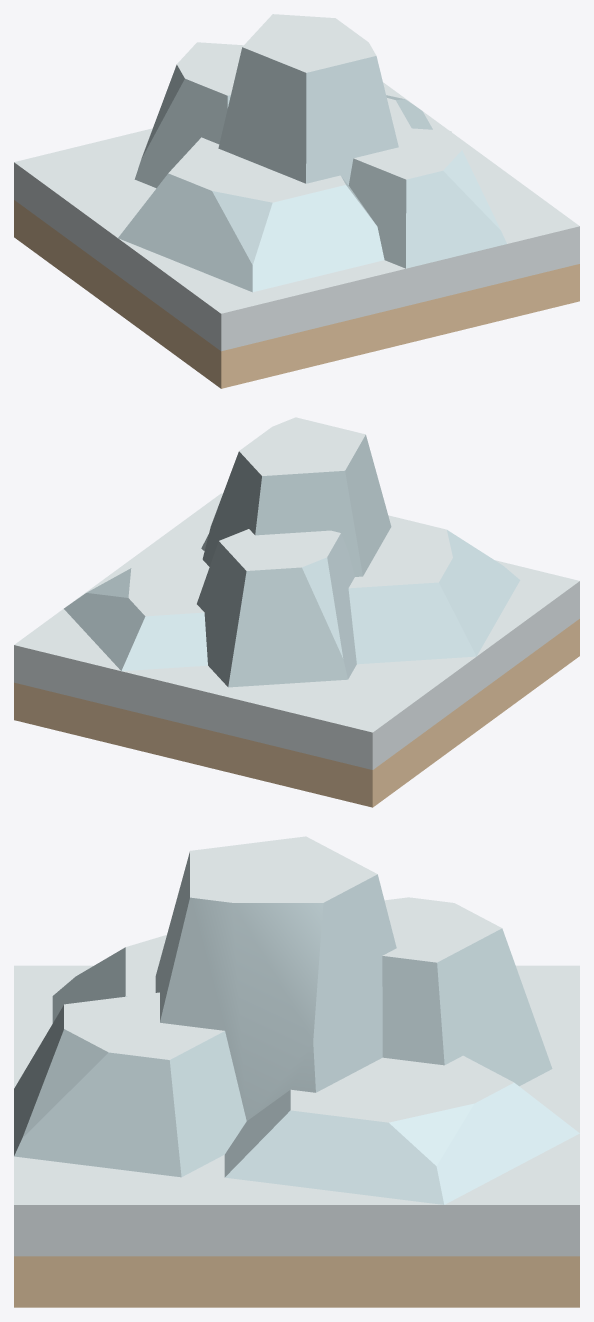
File: snow_tile_hill.glb
3 views of the same model, one above another, from view 1: azimuth 30°, elevation 25°; view 2: azimuth 150°, elevation 25°; view 3: azimuth 270°, elevation 25° (orthographic). The views are drawn at different scales.
Parts seen in each view (by area): view 1: rocks, snow_tile_hill; view 2: rocks, snow_tile_hill; view 3: rocks, snow_tile_hill.
Boxes of the visible parts, box(x1,y1,x2,y2) form: rocks: box(118, 14, 506, 292); snow_tile_hill: box(14, 82, 579, 388); rocks: box(64, 417, 520, 687); snow_tile_hill: box(14, 493, 579, 807); rocks: box(14, 836, 579, 1204); snow_tile_hill: box(14, 965, 579, 1307).
Size of the model in its own units: 1 by 0.6186 by 1.
